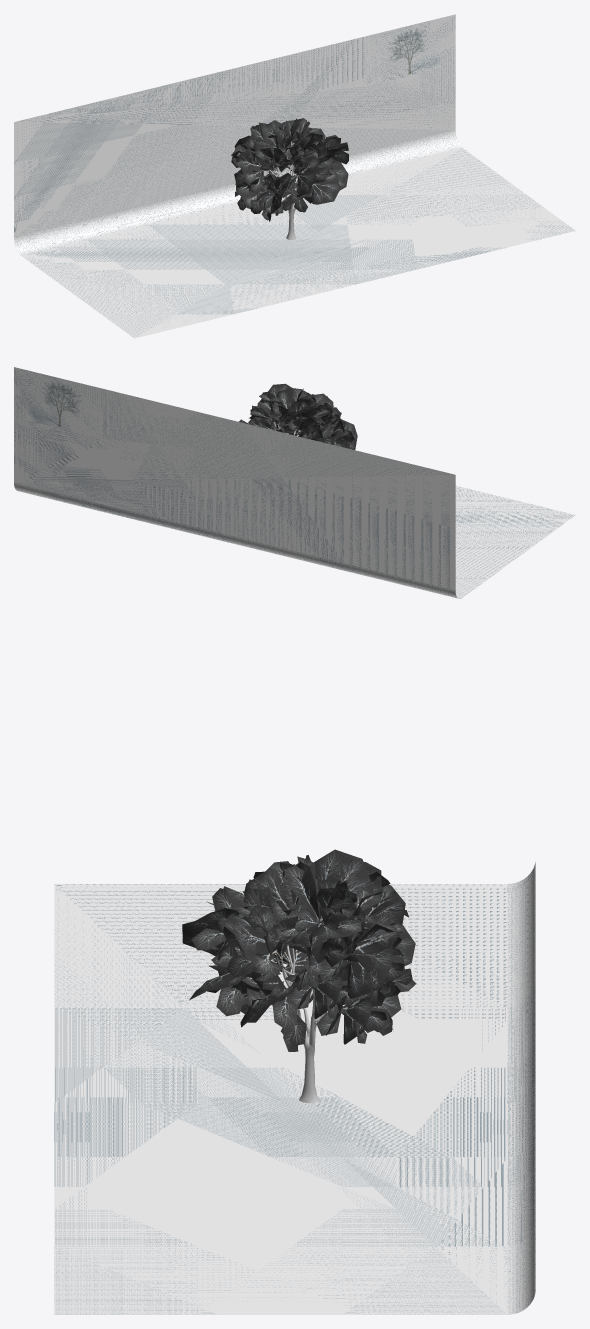
3 views of the same model, one above another, from view 1: azimuth 30°, elevation 25°; view 2: azimuth 150°, elevation 25°; view 3: azimuth 270°, elevation 25° (orthographic). The views are drawn at different scales.
Parts seen in each view (by area): view 1: group_0 (×2), AM113_025_Ginkgo_Defintion1 (×2); view 2: group_0 (×2), AM113_025_Ginkgo_Defintion1; view 3: group_0, AM113_025_Ginkgo_Defintion1 (×7).
Part boxes in pixels (left/top/right/bottom): group_0 (×2): left=14, top=14, right=575, bottom=338; AM113_025_Ginkgo_Defintion1 (×2): left=294, top=156, right=339, bottom=204; group_0 (×2): left=14, top=367, right=575, bottom=598; AM113_025_Ginkgo_Defintion1: left=276, top=388, right=313, bottom=411; group_0: left=54, top=862, right=535, bottom=1314; AM113_025_Ginkgo_Defintion1 (×7): left=182, top=849, right=402, bottom=1044.
Size of the model in its own units: 1417 by 669 by 394.
